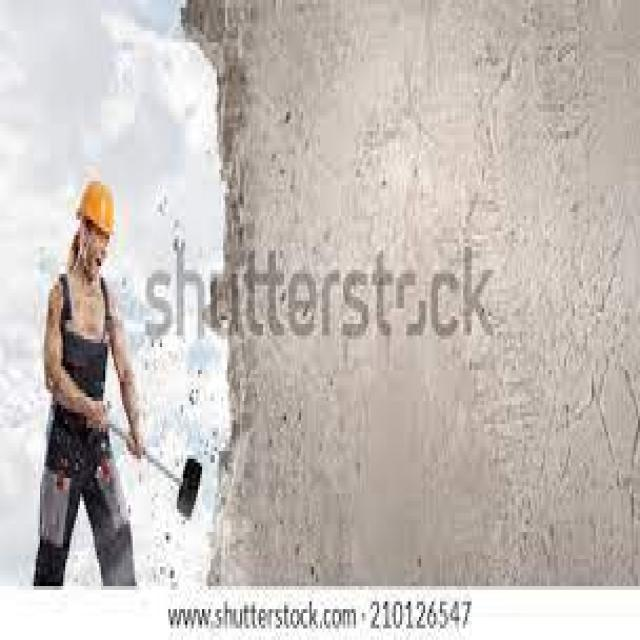hammer: (60, 395, 206, 526)
